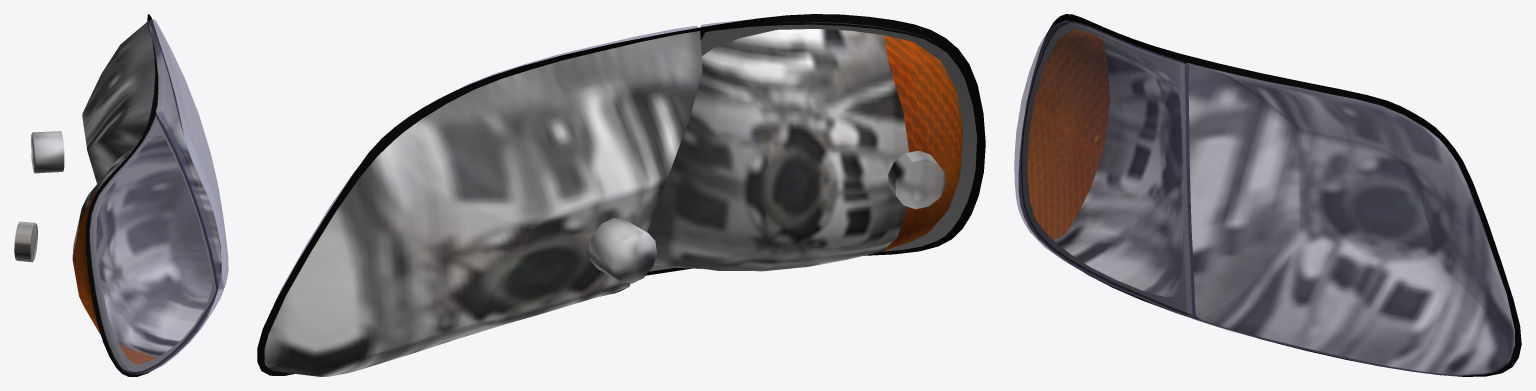
3 renders of one model, left to right at view 1: azimuth 30°, elevation 25°; view 2: azimuth 150°, elevation 25°; view 3: azimuth 270°, elevation 25°, orthographic. The views are drawn at different scales.
Visible parts, largest first — view 1: P815_061B_R_P815_061B_R_4_DTaSI, P815_061B_R_P815_061B_R_5_N, P815_061B_R_P815_061B_R_2_N, P815_061B_R_P815_061B_R_6_D, P815_061B_R_1_DaS_P815_061B_R, P815_061B_R_P815_061B_R_3_N; view 2: P815_061B_R_P815_061B_R_2_N, P815_061B_R_P815_061B_R_5_N, P815_061B_R_P815_061B_R_6_D, P815_061B_R_P815_061B_R_3_N, P815_061B_R_1_DaS_P815_061B_R, P815_061B_R_P815_061B_R_4_DTaSI; view 3: P815_061B_R_P815_061B_R_4_DTaSI, P815_061B_R_P815_061B_R_2_N, P815_061B_R_P815_061B_R_5_N, P815_061B_R_P815_061B_R_3_N, P815_061B_R_P815_061B_R_6_D, P815_061B_R_1_DaS_P815_061B_R.
Part boxes in pixels (x1,y1,x2,y2): P815_061B_R_P815_061B_R_4_DTaSI: [89, 19, 228, 374]; P815_061B_R_P815_061B_R_5_N: [14, 135, 211, 357]; P815_061B_R_P815_061B_R_2_N: [31, 22, 221, 285]; P815_061B_R_P815_061B_R_6_D: [86, 14, 220, 376]; P815_061B_R_1_DaS_P815_061B_R: [90, 116, 216, 371]; P815_061B_R_P815_061B_R_3_N: [72, 189, 156, 364]; P815_061B_R_P815_061B_R_2_N: [264, 31, 702, 376]; P815_061B_R_P815_061B_R_5_N: [647, 29, 945, 271]; P815_061B_R_P815_061B_R_6_D: [257, 14, 985, 375]; P815_061B_R_P815_061B_R_3_N: [882, 35, 962, 251]; P815_061B_R_1_DaS_P815_061B_R: [649, 24, 976, 271]; P815_061B_R_P815_061B_R_4_DTaSI: [277, 19, 918, 297]; P815_061B_R_P815_061B_R_4_DTaSI: [1014, 20, 1514, 376]; P815_061B_R_P815_061B_R_2_N: [1188, 63, 1515, 374]; P815_061B_R_P815_061B_R_5_N: [1053, 37, 1183, 296]; P815_061B_R_P815_061B_R_3_N: [1027, 29, 1109, 239]; P815_061B_R_P815_061B_R_6_D: [1019, 14, 1521, 376]; P815_061B_R_1_DaS_P815_061B_R: [1022, 23, 1192, 314].
Bounding box in the file's own units: 33.18 × 19.46 × 38.24.
